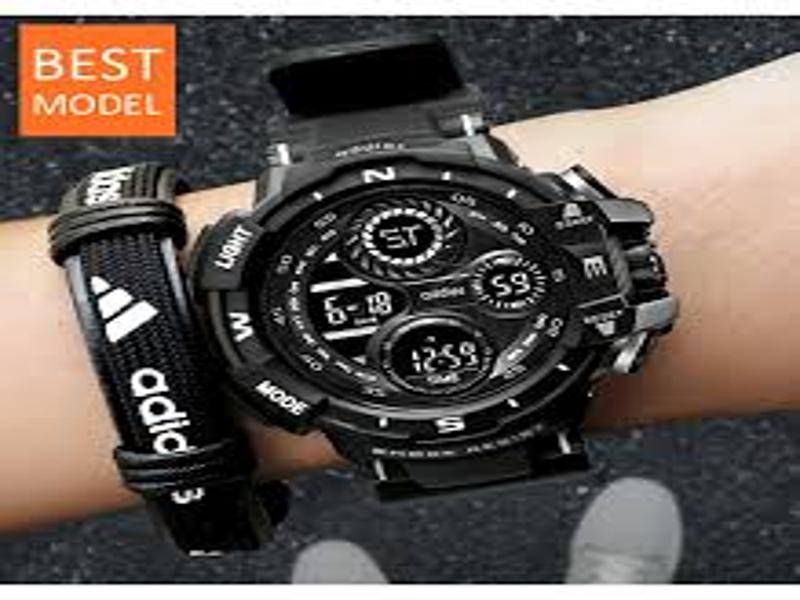watch: (192, 29, 679, 504)
